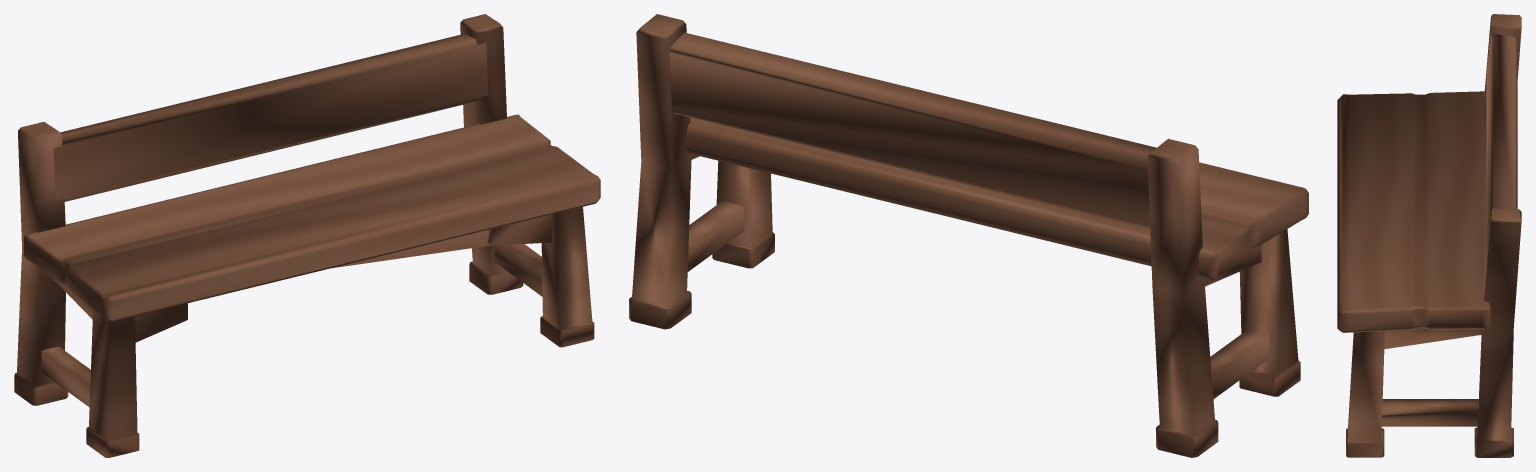
The model's file is P03_atlas_v1.glb.
3 renders of one model, left to right at view 1: azimuth 30°, elevation 25°; view 2: azimuth 150°, elevation 25°; view 3: azimuth 270°, elevation 25°, orthographic. The views are drawn at different scales.
Parts seen in each view (by area): view 1: P03_Geometry; view 2: P03_Geometry; view 3: P03_Geometry.
Boxes of the visible parts, box(x1,y1,x2,y2) form: P03_Geometry: box(14, 14, 600, 457); P03_Geometry: box(629, 14, 1308, 457); P03_Geometry: box(1337, 14, 1521, 457).
Bounding box in the file's own units: 7 × 3.5 × 2.5.
1 material, 1 textured.
